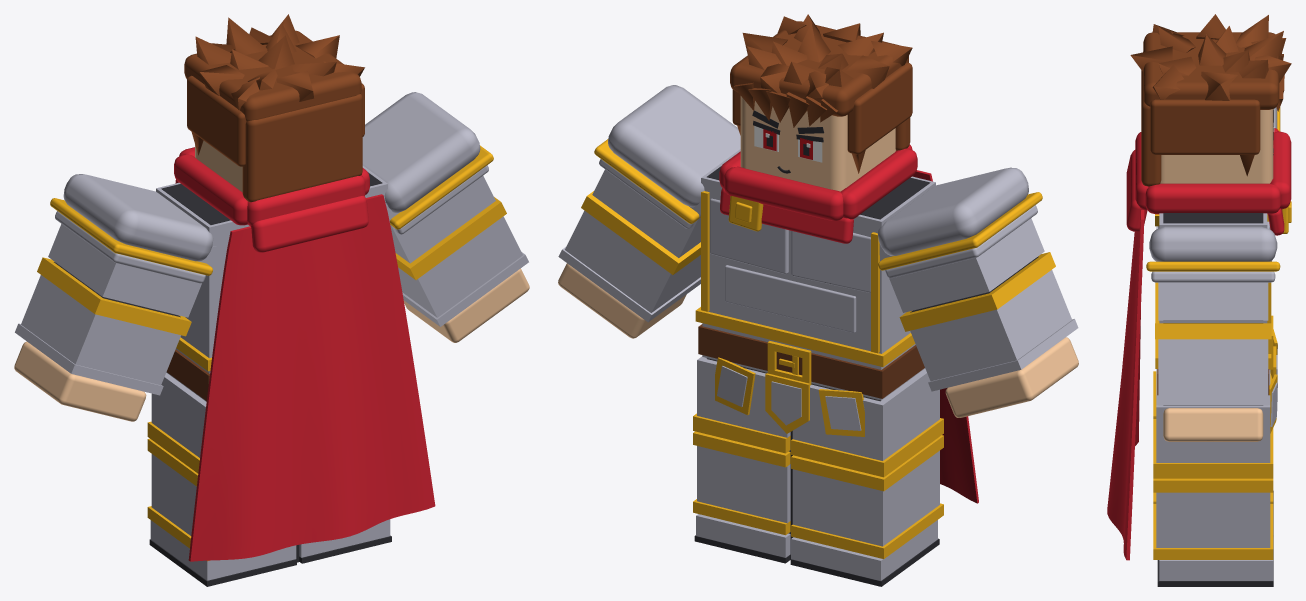
File: warden_male.glb
3 views of the same model, side by side, from view 1: azimuth 30°, elevation 25°; view 2: azimuth 150°, elevation 25°; view 3: azimuth 270°, elevation 25° (orthographic).
Parts seen in each view (by area): view 1: Cape, Hair, LeftUpperArm, RightUpperArm, LeftLowerArm, Scarf, RightLowerArm, UpperTorso, LeftHand, LeftUpperLeg, LeftLowerLeg, LeftFoot (+4 smaller); view 2: UpperTorso, Hair, LeftUpperArm, RightUpperArm, LeftLowerArm, LeftLowerLeg, Scarf, RightLowerArm, LeftUpperLeg, Head, RightLowerLeg, LowerTorso (+7 smaller); view 3: Hair, RightUpperArm, RightLowerLeg, RightLowerArm, Scarf, Cape, RightUpperLeg, Head, RightHand, RightFoot, UpperTorso, Skirt (+1 smaller).
Part boxes in pixels (bbox=[...]): Cape: bbox=[188, 194, 435, 561]; Hair: bbox=[184, 14, 364, 202]; LeftUpperArm: bbox=[48, 174, 216, 317]; RightUpperArm: bbox=[362, 92, 495, 263]; LeftLowerArm: bbox=[15, 257, 191, 395]; Scarf: bbox=[174, 147, 369, 252]; RightLowerArm: bbox=[395, 197, 528, 326]; UpperTorso: bbox=[156, 165, 387, 371]; LeftHand: bbox=[14, 341, 146, 421]; LeftUpperLeg: bbox=[147, 373, 206, 473]; LeftLowerLeg: bbox=[147, 438, 208, 561]; LeftFoot: bbox=[149, 520, 296, 586]; UpperTorso: bbox=[695, 149, 935, 366]; Hair: bbox=[730, 14, 912, 173]; LeftUpperArm: bbox=[877, 167, 1044, 312]; RightUpperArm: bbox=[592, 85, 740, 257]; LeftLowerArm: bbox=[899, 252, 1078, 391]; LeftLowerLeg: bbox=[791, 435, 943, 558]; Scarf: bbox=[719, 144, 917, 243]; RightLowerArm: bbox=[558, 191, 700, 322]; LeftUpperLeg: bbox=[791, 368, 943, 477]; Head: bbox=[740, 96, 895, 191]; RightLowerLeg: bbox=[693, 431, 792, 535]; LowerTorso: bbox=[698, 323, 924, 400]; Hair: bbox=[1130, 14, 1291, 186]; RightUpperArm: bbox=[1146, 226, 1280, 320]; RightLowerLeg: bbox=[1153, 478, 1273, 559]; RightLowerArm: bbox=[1155, 323, 1271, 405]; Scarf: bbox=[1126, 128, 1291, 235]; Cape: bbox=[1107, 210, 1144, 560]; RightUpperLeg: bbox=[1153, 369, 1273, 478]; Head: bbox=[1160, 109, 1274, 183]; RightHand: bbox=[1163, 408, 1263, 441]; RightFoot: bbox=[1157, 537, 1273, 586]; UpperTorso: bbox=[1155, 213, 1271, 368]; Skirt: bbox=[1269, 329, 1277, 433].
Size of the model in its own units: 5.47 by 5.67 by 1.85.
